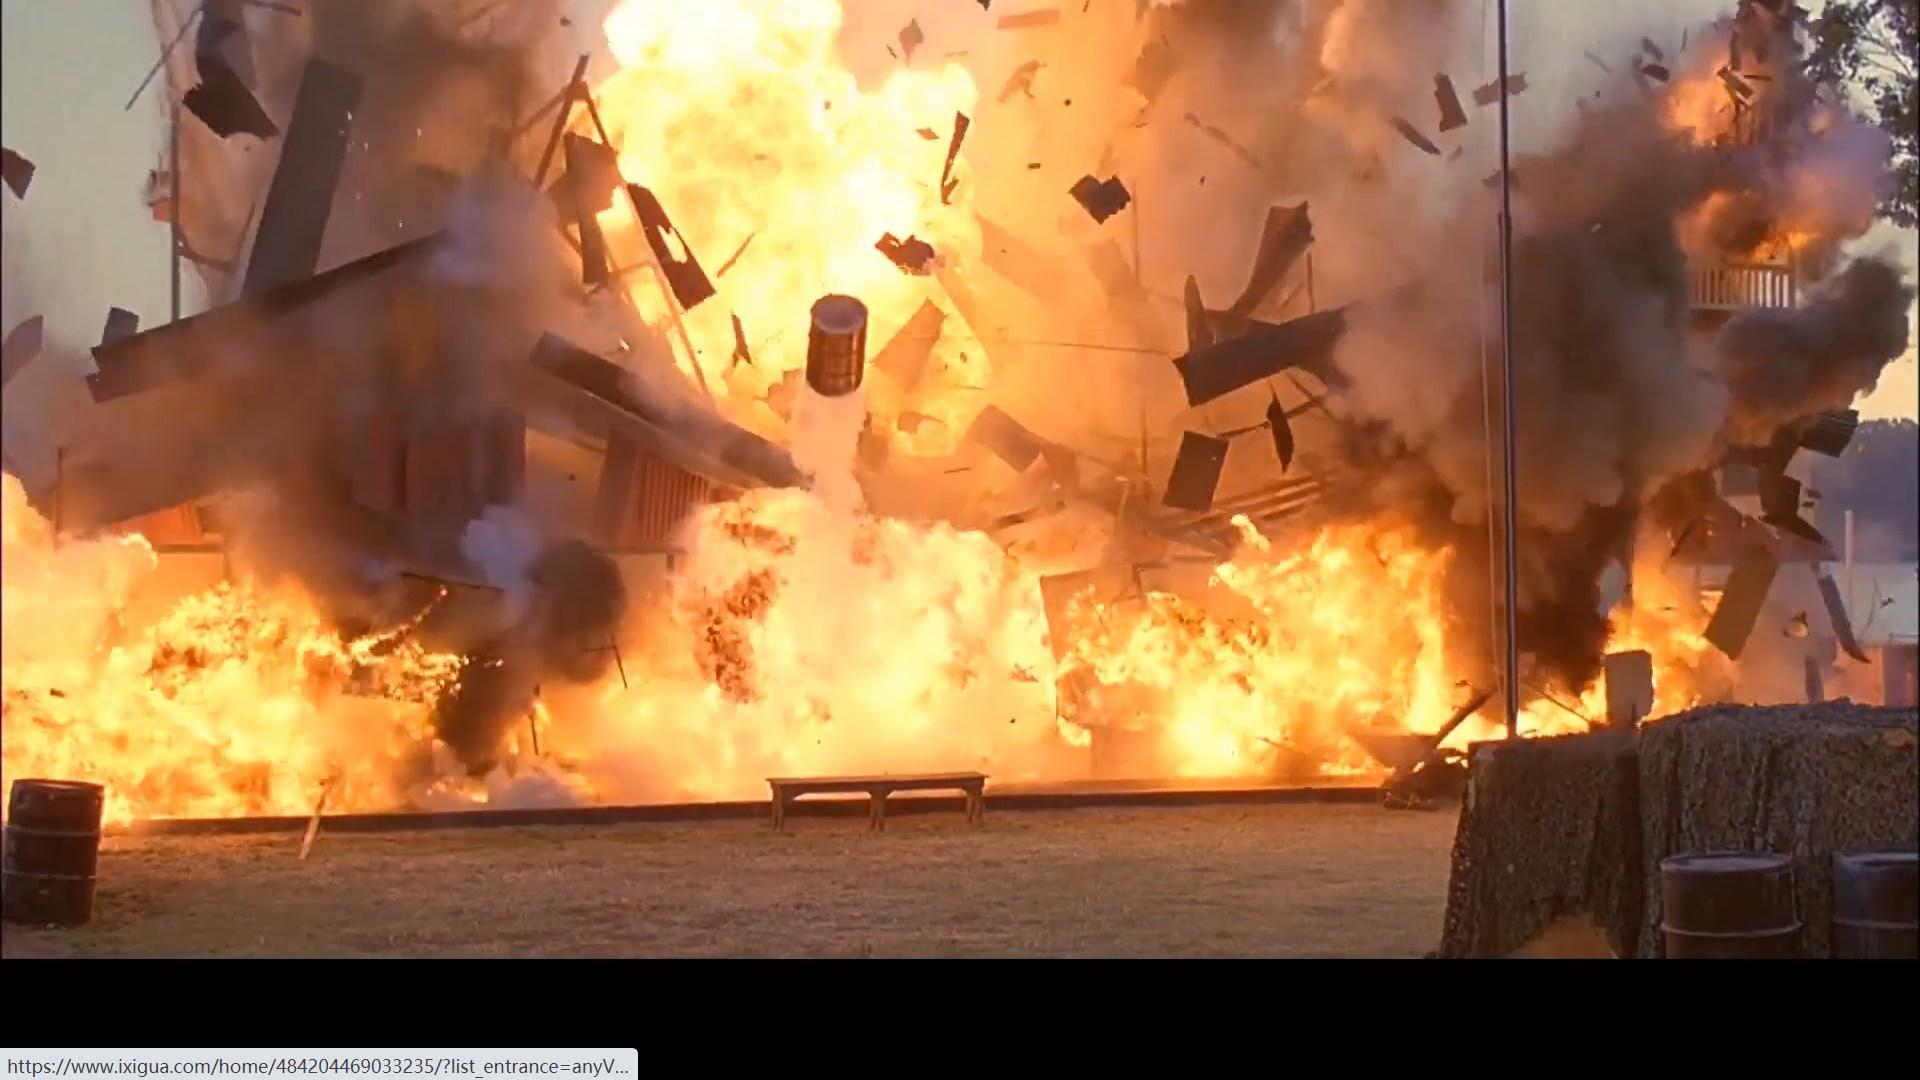fire: (7, 0, 1742, 843)
